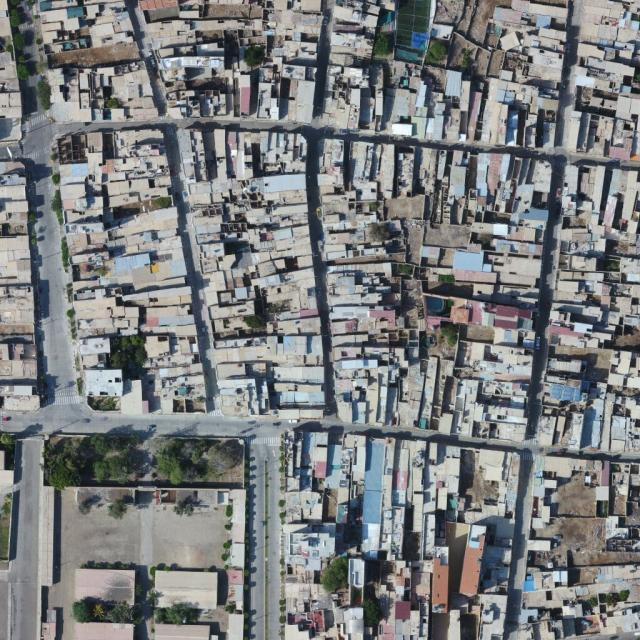building: (156, 159, 417, 613), (298, 136, 554, 443), (178, 120, 329, 428), (520, 458, 640, 640), (74, 487, 236, 511), (154, 572, 218, 610), (74, 570, 135, 607), (38, 487, 54, 587), (231, 492, 246, 524), (229, 544, 246, 569), (0, 161, 24, 175), (228, 570, 244, 587), (232, 524, 245, 544), (40, 624, 56, 640), (228, 586, 243, 603), (228, 571, 243, 586), (45, 610, 57, 624), (235, 602, 244, 612), (234, 586, 243, 592)
greenland: (44, 434, 244, 490)
metalled_road: (161, 125, 225, 413), (18, 123, 81, 408), (524, 156, 570, 445), (303, 131, 337, 415), (246, 439, 283, 640), (504, 449, 540, 640), (51, 113, 305, 139), (125, 0, 172, 117), (558, 0, 583, 136), (310, 0, 336, 121), (568, 450, 640, 463), (17, 108, 50, 134), (0, 140, 20, 161)
